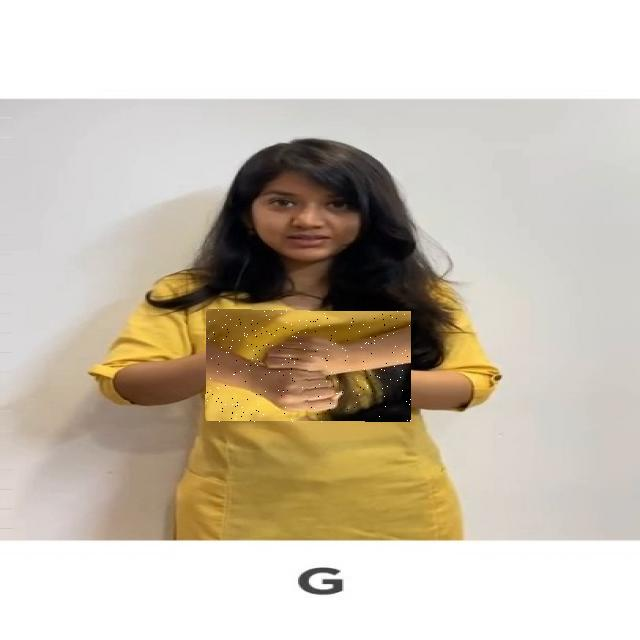G: (206, 310, 411, 422)
